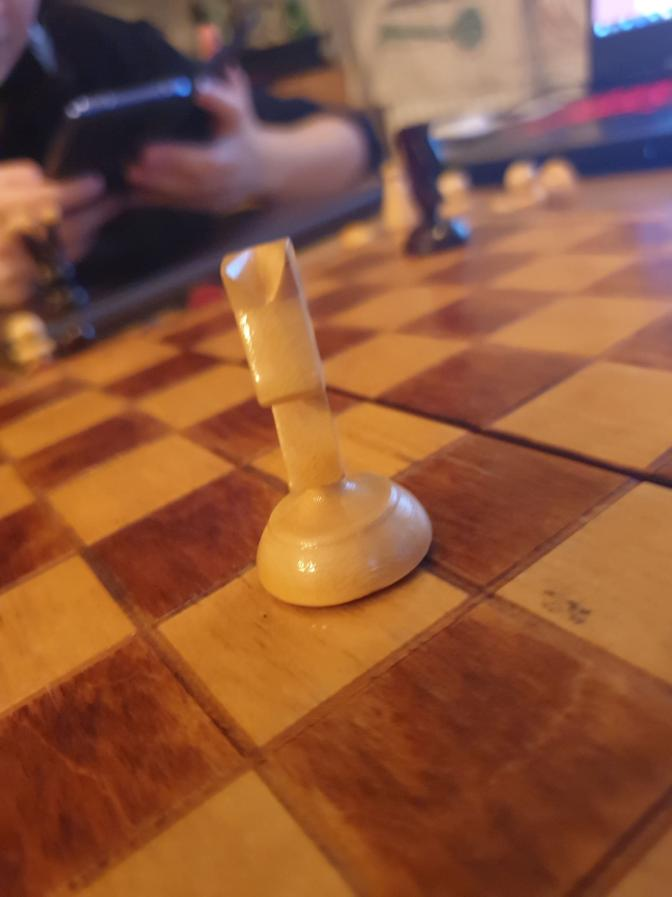wknight: (215, 237, 433, 610)
